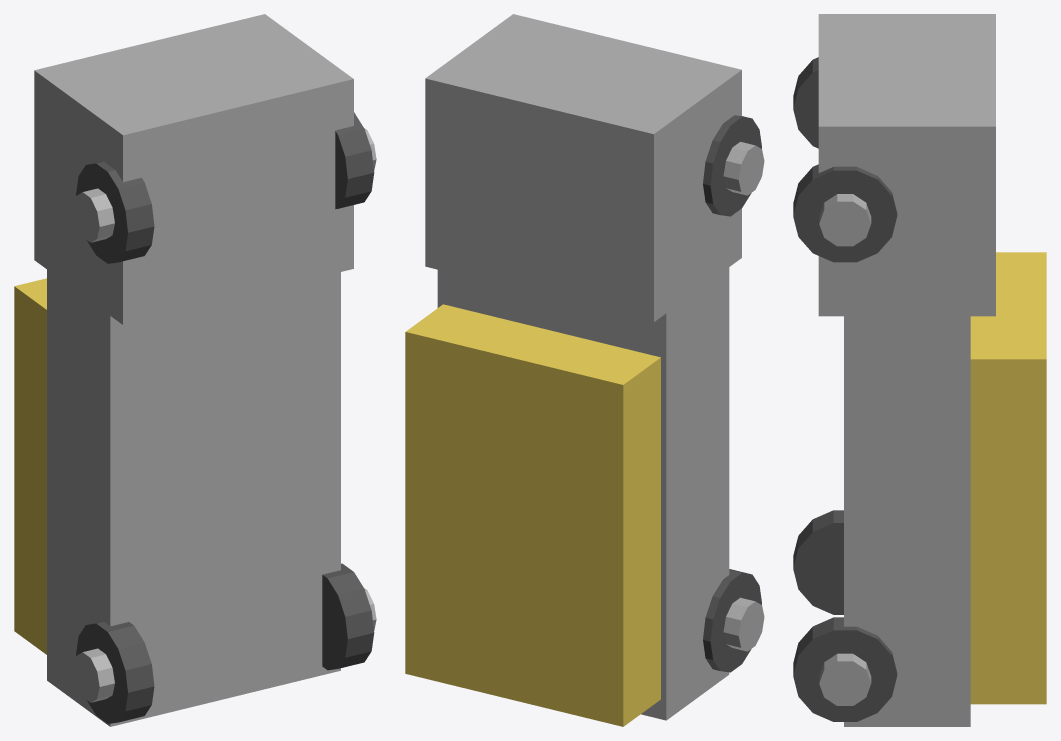
File: salt_spreader_truck.glb
3 renders of one model, left to right at view 1: azimuth 30°, elevation 25°; view 2: azimuth 150°, elevation 25°; view 3: azimuth 270°, elevation 25°, orthographic.
Visible parts, largest first — view 1: cargo, cab, hopper, wheel_-1_-1, wheel_-1_1, wheel_1_-1, wheel_1_1, hub_-1_1, hub_-1_-1; view 2: hopper, cab, cargo, wheel_-1_-1, wheel_-1_1, hub_-1_1, hub_-1_-1; view 3: cargo, cab, hopper, wheel_1_-1, wheel_1_1, wheel_-1_-1, hub_1_1, hub_1_-1, wheel_-1_1.
Boxes of the visible parts, x1,y1,x2,y2 form: cargo: [47, 238, 340, 726]; cab: [34, 14, 353, 324]; hopper: [14, 278, 46, 654]; wheel_-1_-1: [76, 621, 154, 723]; wheel_-1_1: [76, 161, 154, 263]; wheel_1_-1: [322, 563, 374, 670]; wheel_1_1: [335, 112, 374, 209]; hub_-1_1: [73, 188, 114, 242]; hub_-1_-1: [73, 648, 114, 702]; hopper: [405, 304, 660, 726]; cab: [425, 14, 741, 322]; cargo: [437, 267, 729, 720]; wheel_-1_-1: [703, 569, 761, 672]; wheel_-1_1: [703, 115, 761, 216]; hub_-1_1: [723, 142, 764, 195]; hub_-1_-1: [723, 597, 764, 651]; cargo: [844, 284, 970, 726]; cab: [818, 14, 995, 316]; hopper: [970, 252, 1046, 704]; wheel_1_-1: [793, 617, 897, 721]; wheel_1_1: [793, 164, 897, 262]; wheel_-1_-1: [793, 510, 843, 614]; hub_1_1: [819, 194, 871, 246]; hub_1_-1: [819, 653, 871, 705]; wheel_-1_1: [793, 57, 818, 148].
Bounding box in the file's own units: 2.52 × 5.22 × 2.
